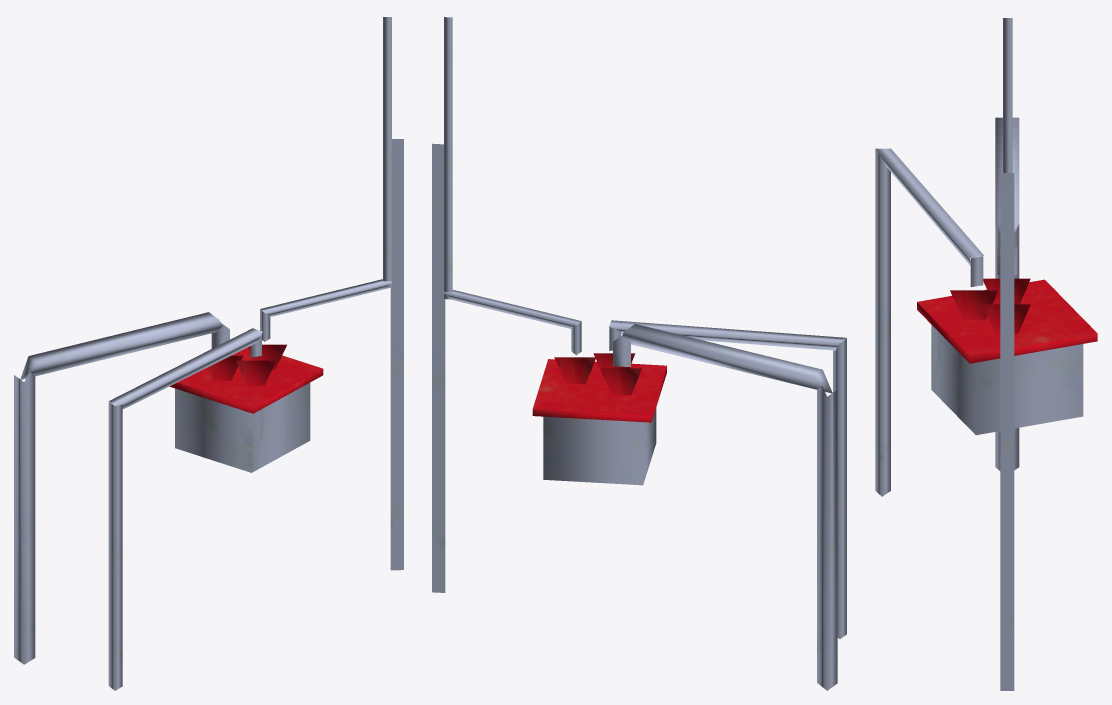
Rendered from refuel-area-piping-cbj_LOD03.gltf.
The picture shows the model from 3 angles, left to right: view 1: azimuth 30°, elevation 25°; view 2: azimuth 150°, elevation 25°; view 3: azimuth 270°, elevation 25°; orthographic projection. The views are drawn at different scales.
Parts seen in each view (by area): view 1: Cube02.002; view 2: Cube02.002; view 3: Cube02.002.
Part boxes in pixels (<box>): Cube02.002: <box>14,17,403,690</box>; Cube02.002: <box>432,17,846,690</box>; Cube02.002: <box>875,18,1097,690</box>.
Bounding box in the file's own units: 4.94 × 6.86 × 2.08.
